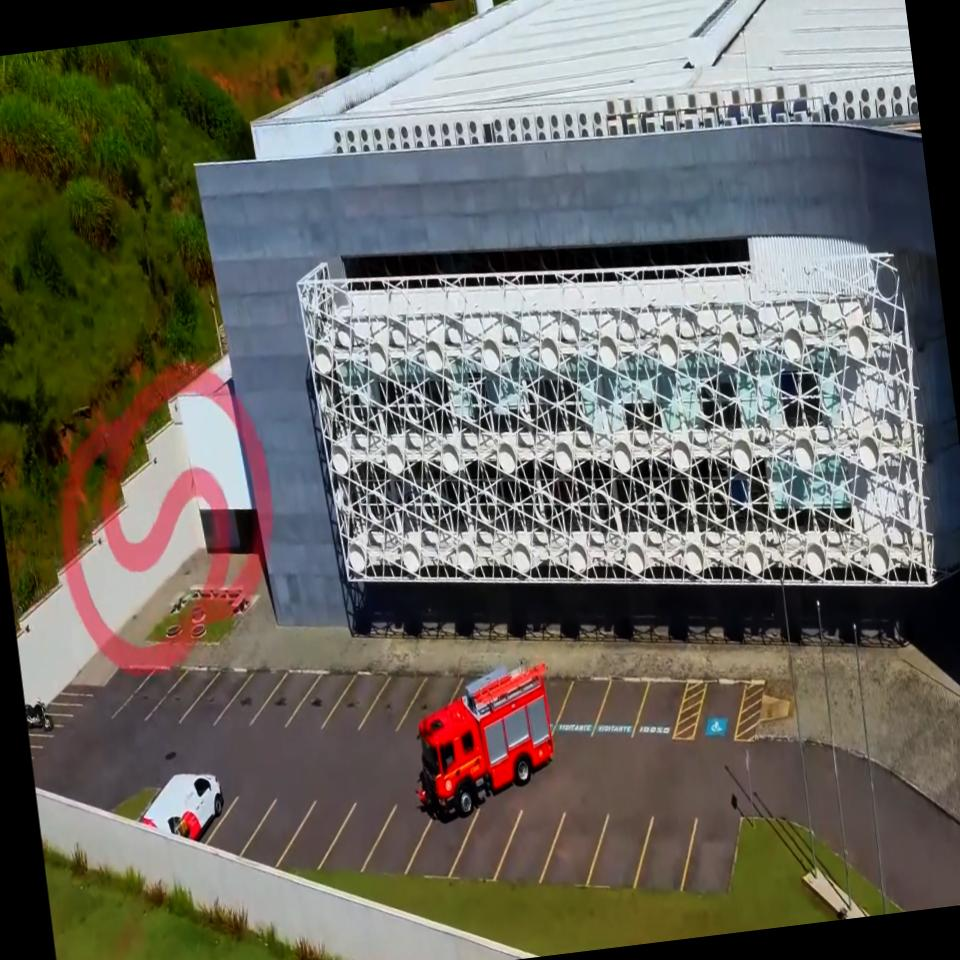viatura: (401, 655, 566, 827)
